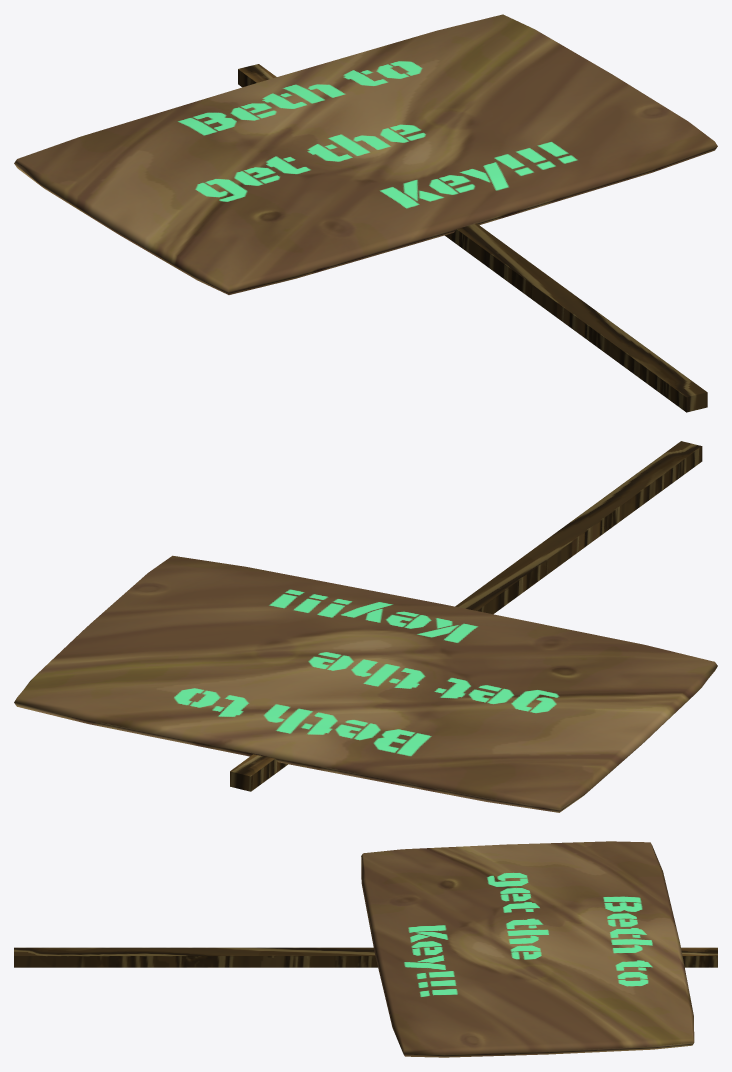
File: Cartel.glb
3 renders of one model, top to bottom at view 1: azimuth 30°, elevation 25°; view 2: azimuth 150°, elevation 25°; view 3: azimuth 270°, elevation 25°, orthographic. The views are drawn at different scales.
Parts seen in each view (by area): view 1: pCube3, pCube2; view 2: pCube3, pCube2; view 3: pCube3, pCube2.
Part boxes in pixels (<box>): pCube3: <box>14,14,717,294</box>; pCube2: <box>238,64,707,412</box>; pCube3: <box>14,555,717,812</box>; pCube2: <box>230,441,702,791</box>; pCube3: <box>361,841,694,1057</box>; pCube2: <box>14,947,717,967</box>.
Size of the model in its own units: 0.0958 by 0.00502 by 0.1355.
Materials: 2 (2 with a texture image).
